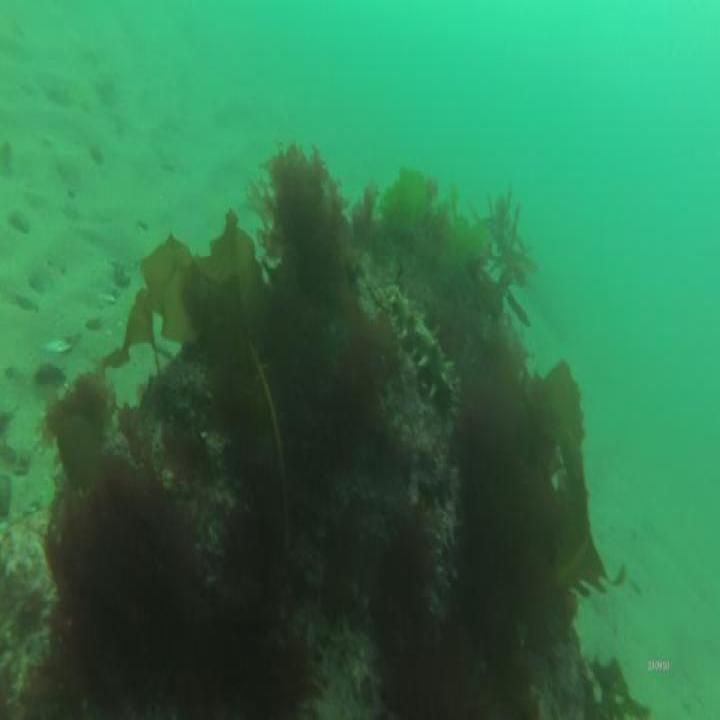holothurian: (387, 279, 460, 409)
